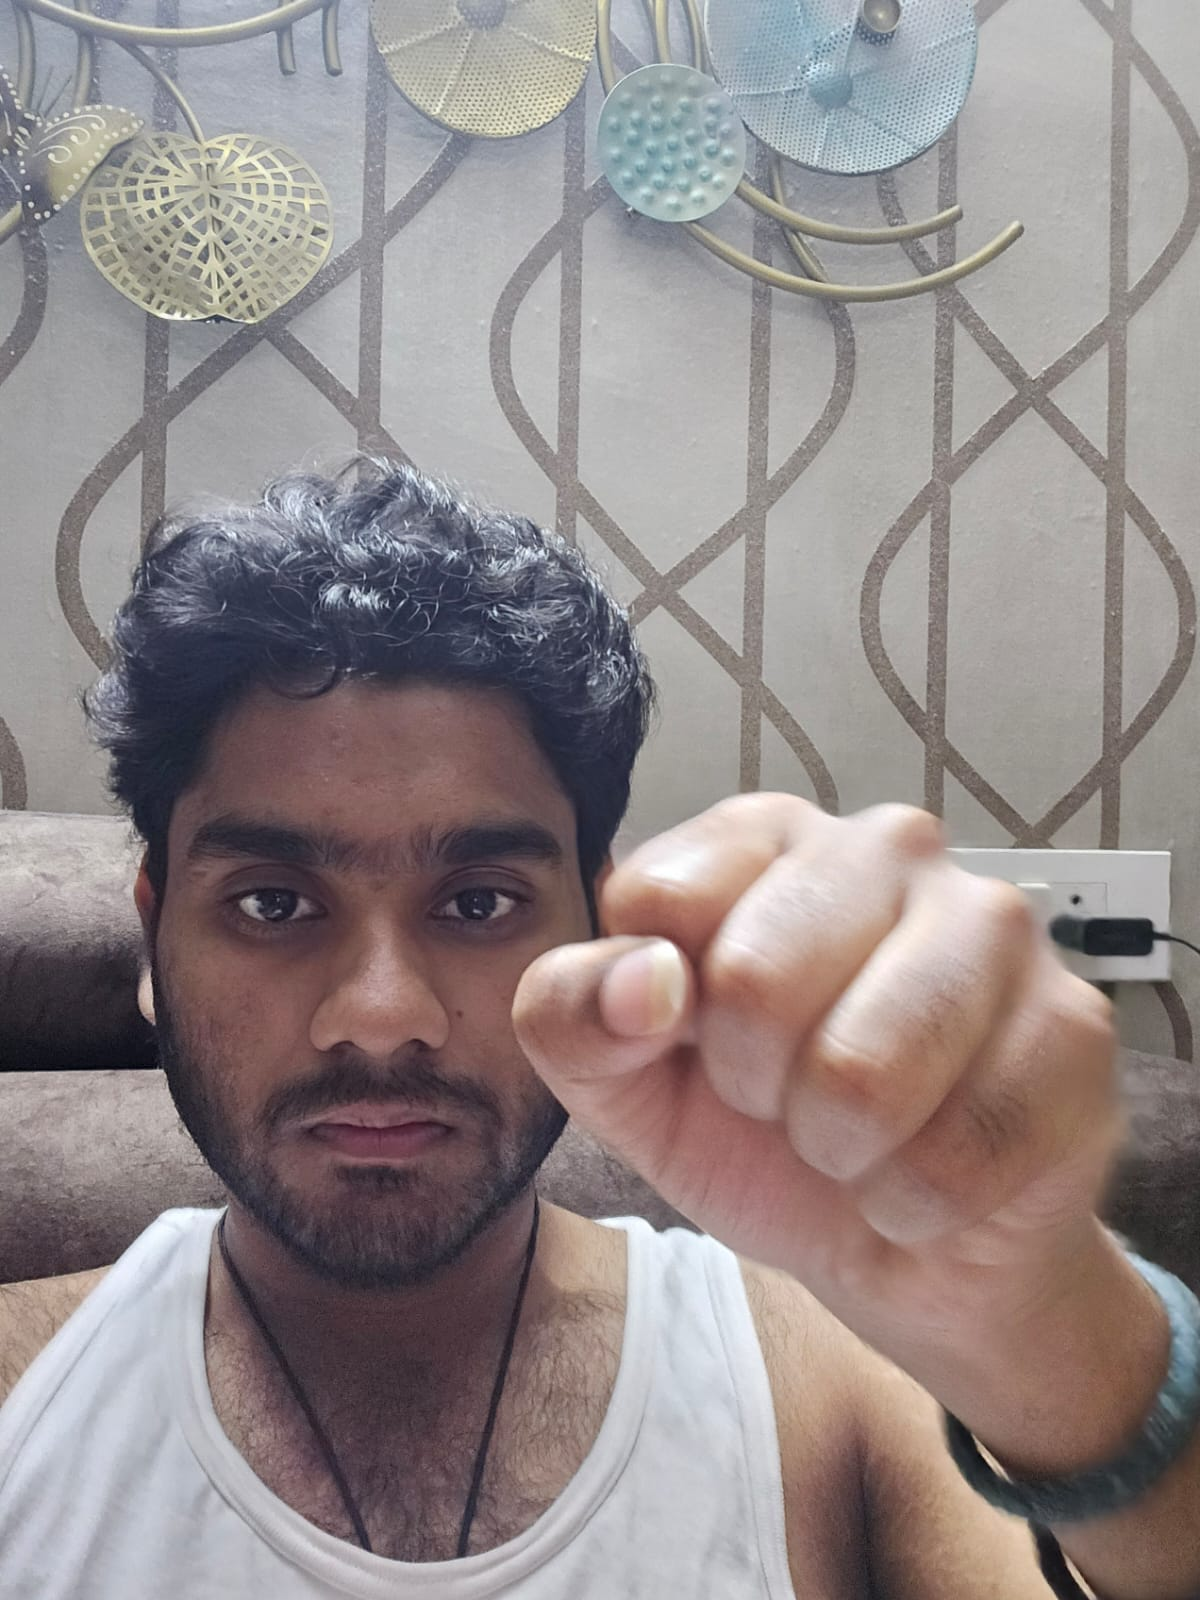yes: (513, 787, 1127, 1346)
